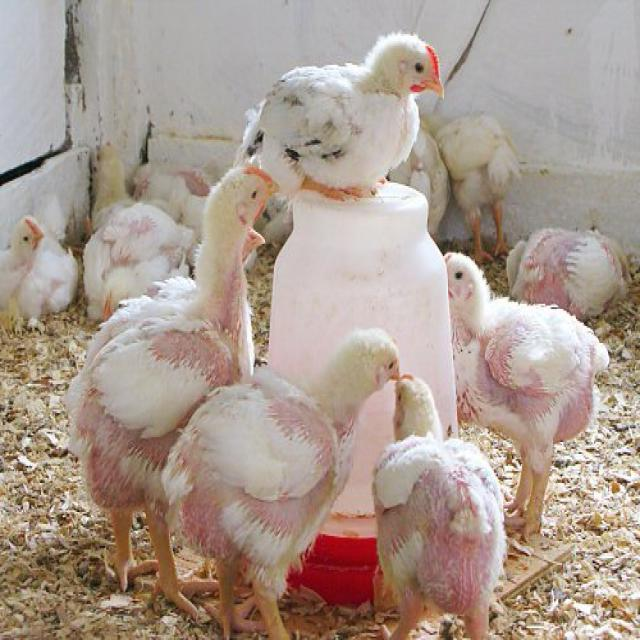poussin: (76, 166, 280, 605), (164, 326, 408, 640), (440, 253, 604, 535), (364, 373, 507, 640), (252, 33, 448, 204), (65, 165, 190, 314), (500, 214, 628, 330), (445, 110, 525, 260), (0, 200, 78, 349)
